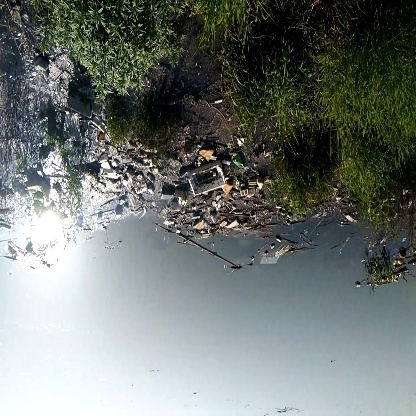branch: (172, 232, 244, 272)
plastic-garbage: (184, 160, 231, 197)
